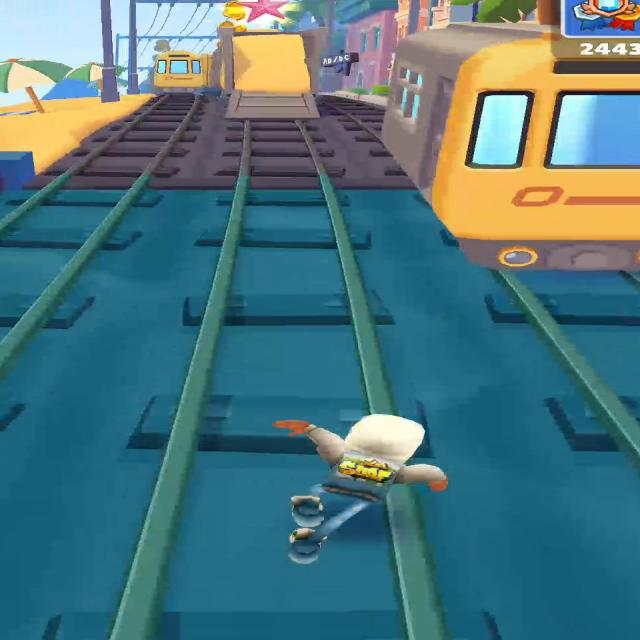climber: (225, 32, 319, 119)
train: (383, 22, 639, 273), (153, 51, 209, 93)
